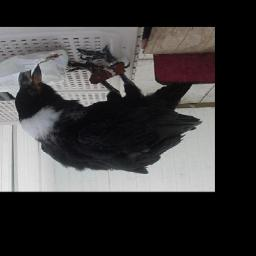Crow: (11, 45, 203, 175)
